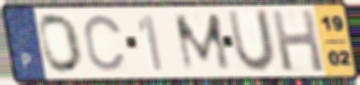1: (136, 13, 164, 73)
C: (82, 12, 128, 73)
H: (268, 7, 327, 75)
M: (171, 11, 234, 73)
O: (37, 12, 85, 76)
U: (225, 8, 278, 76)
